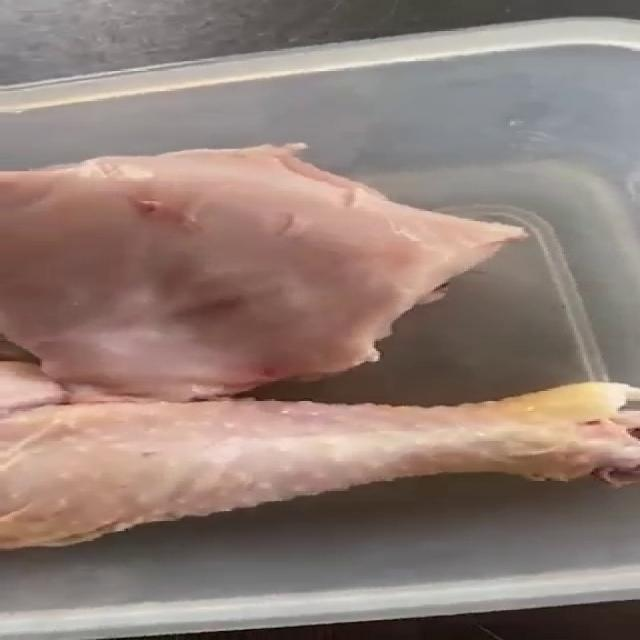chicken: (0, 152, 640, 536)
